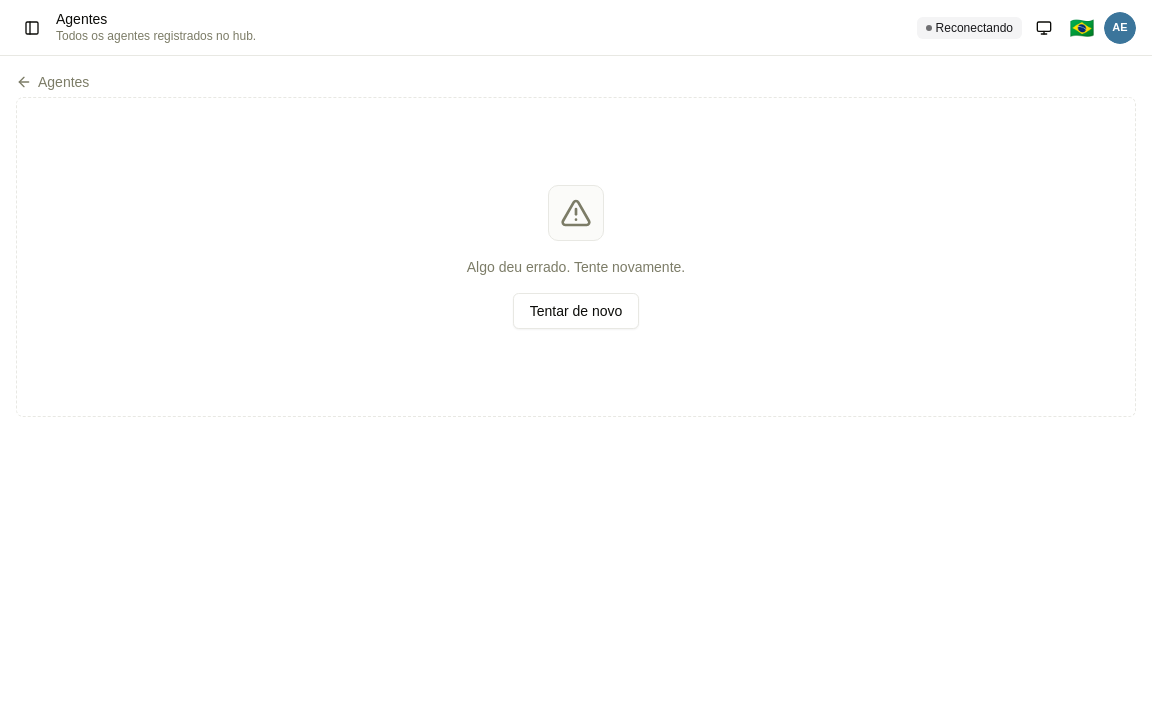
it: agent detail › shows the error on a 500 and recovers the detail after the retry
This screenshot has width=1152, height=720.
expect the element showing "Agentes Algo deu errado. Tente novamente. Tentar de novo" does not show "build · implementer": met, box [0, 56, 1151, 433]
Step 1. Click the button "Tentar de novo" → click(576, 311), box [513, 293, 639, 329]
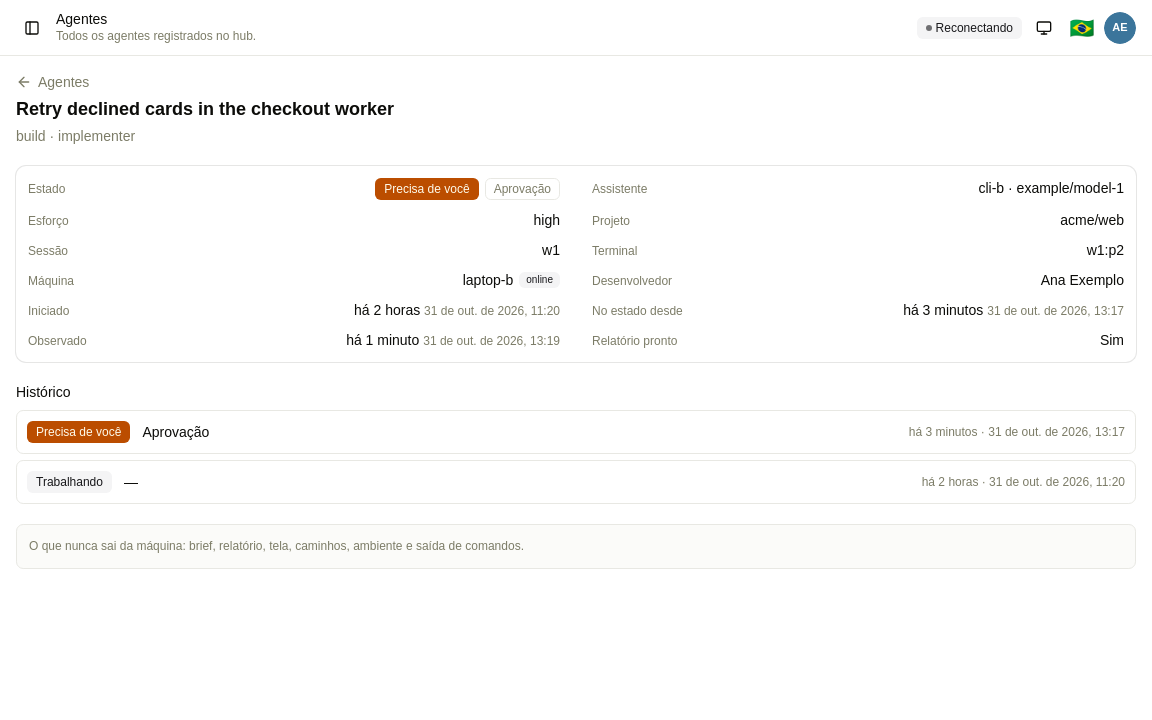
expect the heading "Retry declined cards in the checkout worker" is shown: met, box [16, 99, 394, 119]
